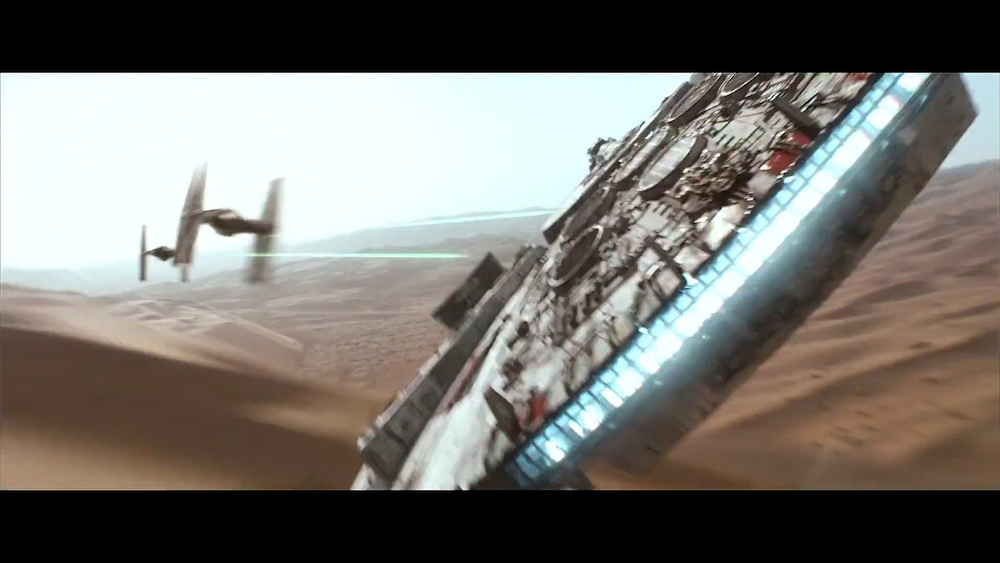Millennium Falcon: (353, 75, 981, 490)
Tie Fighter: (175, 165, 286, 286), (137, 224, 189, 286)
